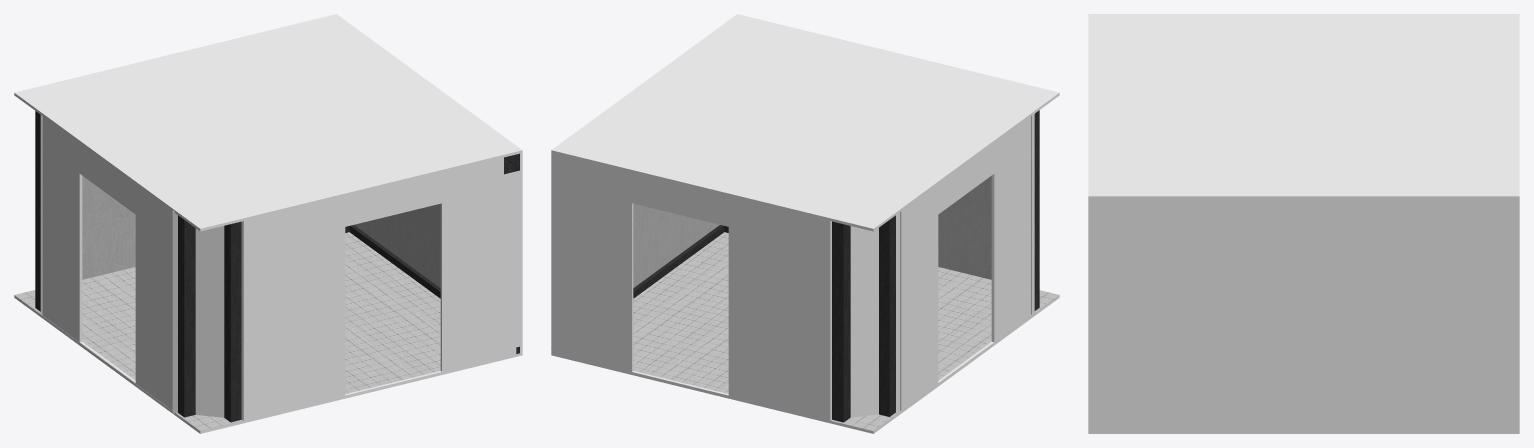
File: CDATCross.fbx
3 views of the same model, side by side, from view 1: azimuth 30°, elevation 25°; view 2: azimuth 150°, elevation 25°; view 3: azimuth 270°, elevation 25° (orthographic). The views are drawn at different scales.
Visible parts, largest first — view 1: node_id34, node_id12, node_id28 (×2), node_id15, node_id37 (×4), node_id25, node_id31 (×2), node_id18, node_id22; view 2: node_id34, node_id18, node_id28 (×2), node_id15, node_id37 (×4), node_id22, node_id31 (×2), node_id12, node_id25; view 3: node_id31, node_id34, node_id28.
Boxes of the visible parts, <box> form: node_id34: <box>14,14,522,231</box>; node_id12: <box>242,157,519,420</box>; node_id28 (×2): <box>14,232,522,433</box>; node_id15: <box>42,116,172,410</box>; node_id37 (×4): <box>35,111,519,422</box>; node_id25: <box>172,210,242,419</box>; node_id31 (×2): <box>354,151,522,354</box>; node_id18: <box>82,176,135,279</box>; node_id22: <box>40,115,42,314</box>; node_id34: <box>551,14,1059,231</box>; node_id18: <box>553,153,831,423</box>; node_id28 (×2): <box>551,232,1059,433</box>; node_id15: <box>900,116,1031,410</box>; node_id37 (×4): <box>551,110,1039,422</box>; node_id22: <box>831,212,899,419</box>; node_id31 (×2): <box>551,152,719,354</box>; node_id12: <box>938,176,991,279</box>; node_id25: <box>1032,113,1034,315</box>; node_id31: <box>1088,199,1519,430</box>; node_id34: <box>1088,14,1519,199</box>; node_id28: <box>1088,431,1519,433</box>.
Size of what is drawn, in the model's own units: 0.512 by 0.31 by 0.5099.
Materials: 24 (16 with a texture image).
